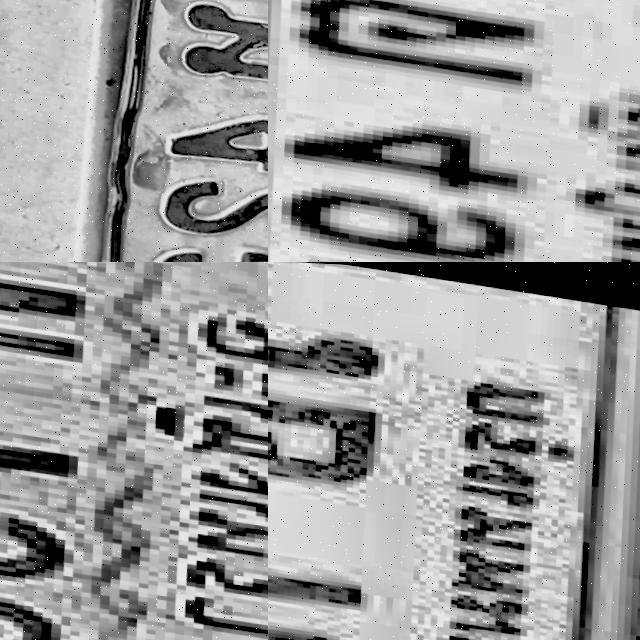license-plate: (268, 262, 640, 640), (0, 262, 268, 640), (268, 0, 640, 262), (49, 0, 268, 262)
